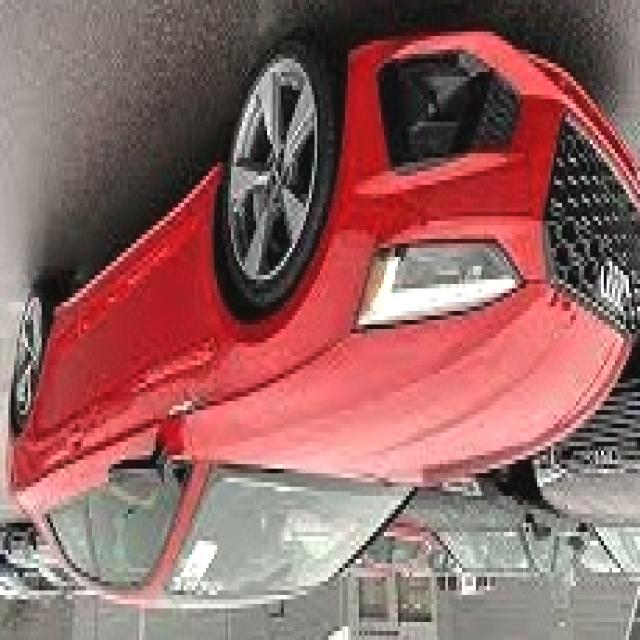red: (14, 34, 630, 606)
